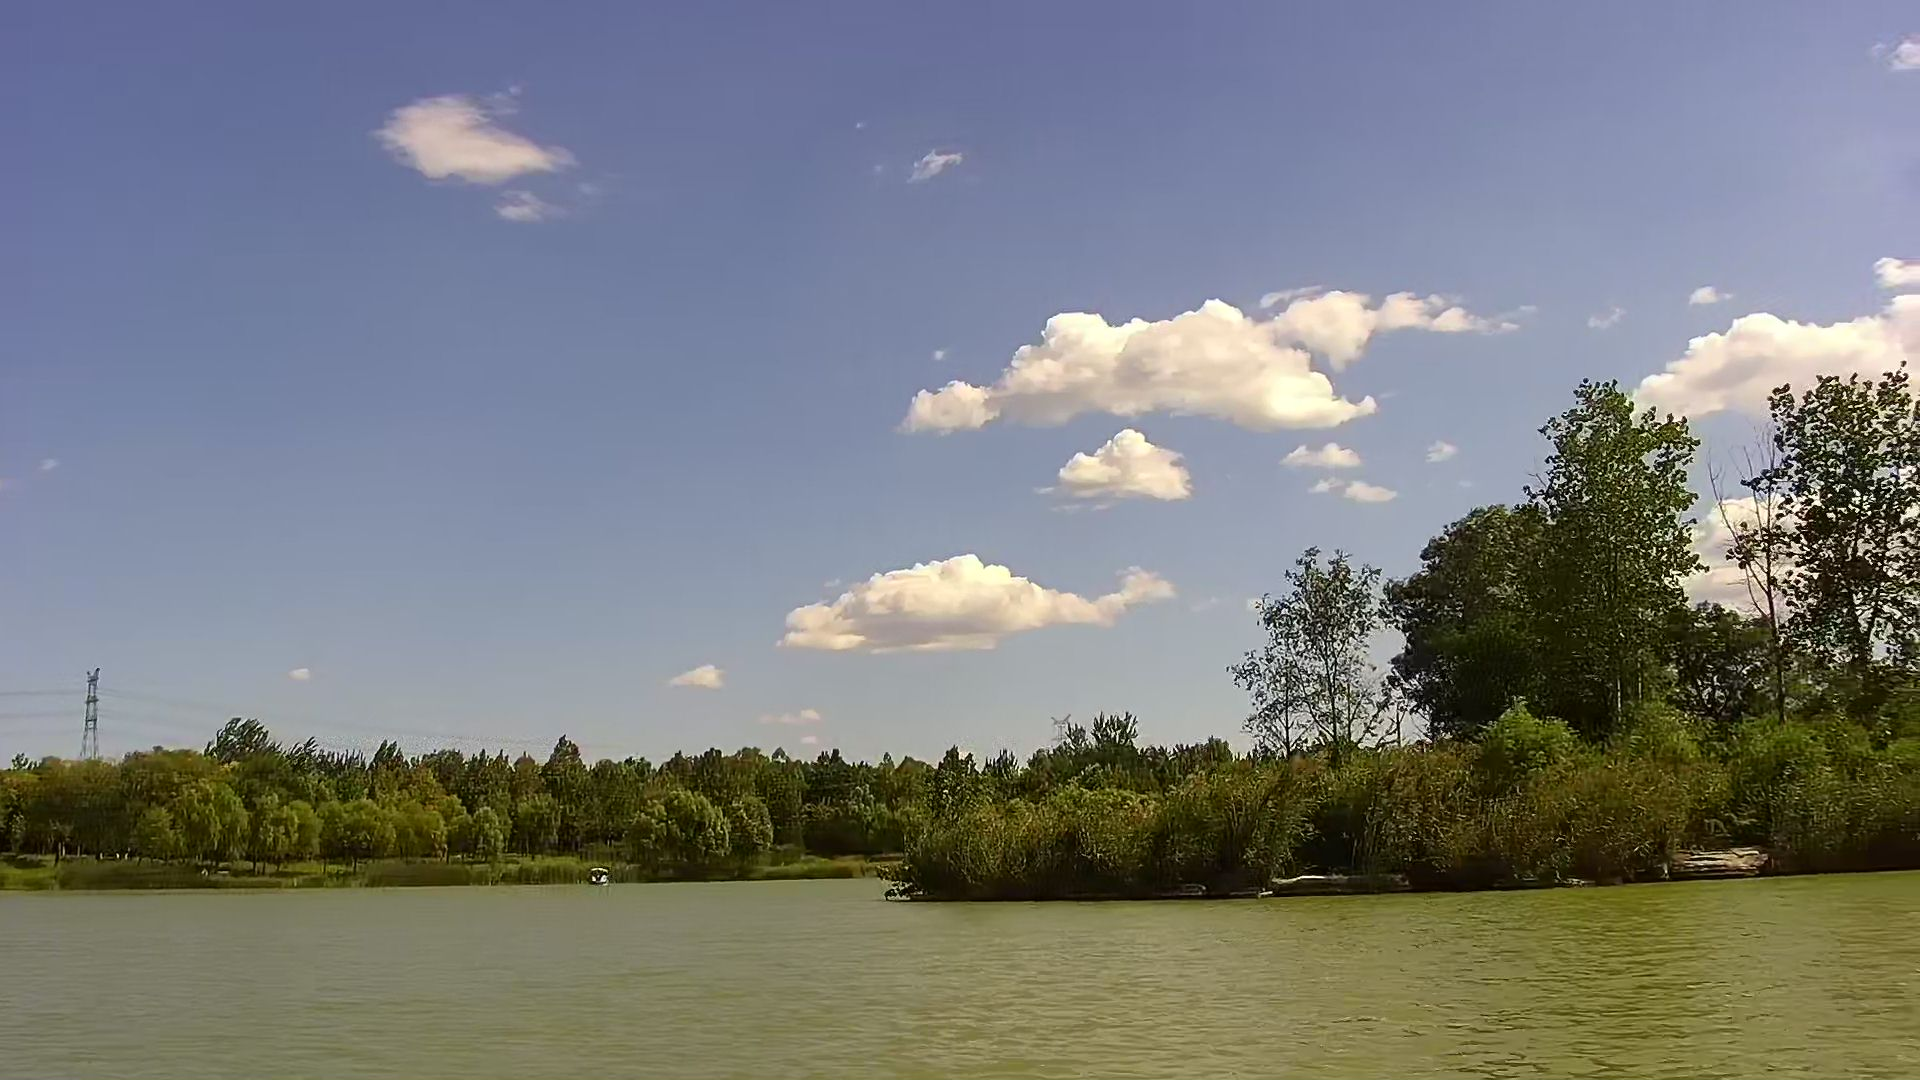boat: (587, 862, 612, 885)
